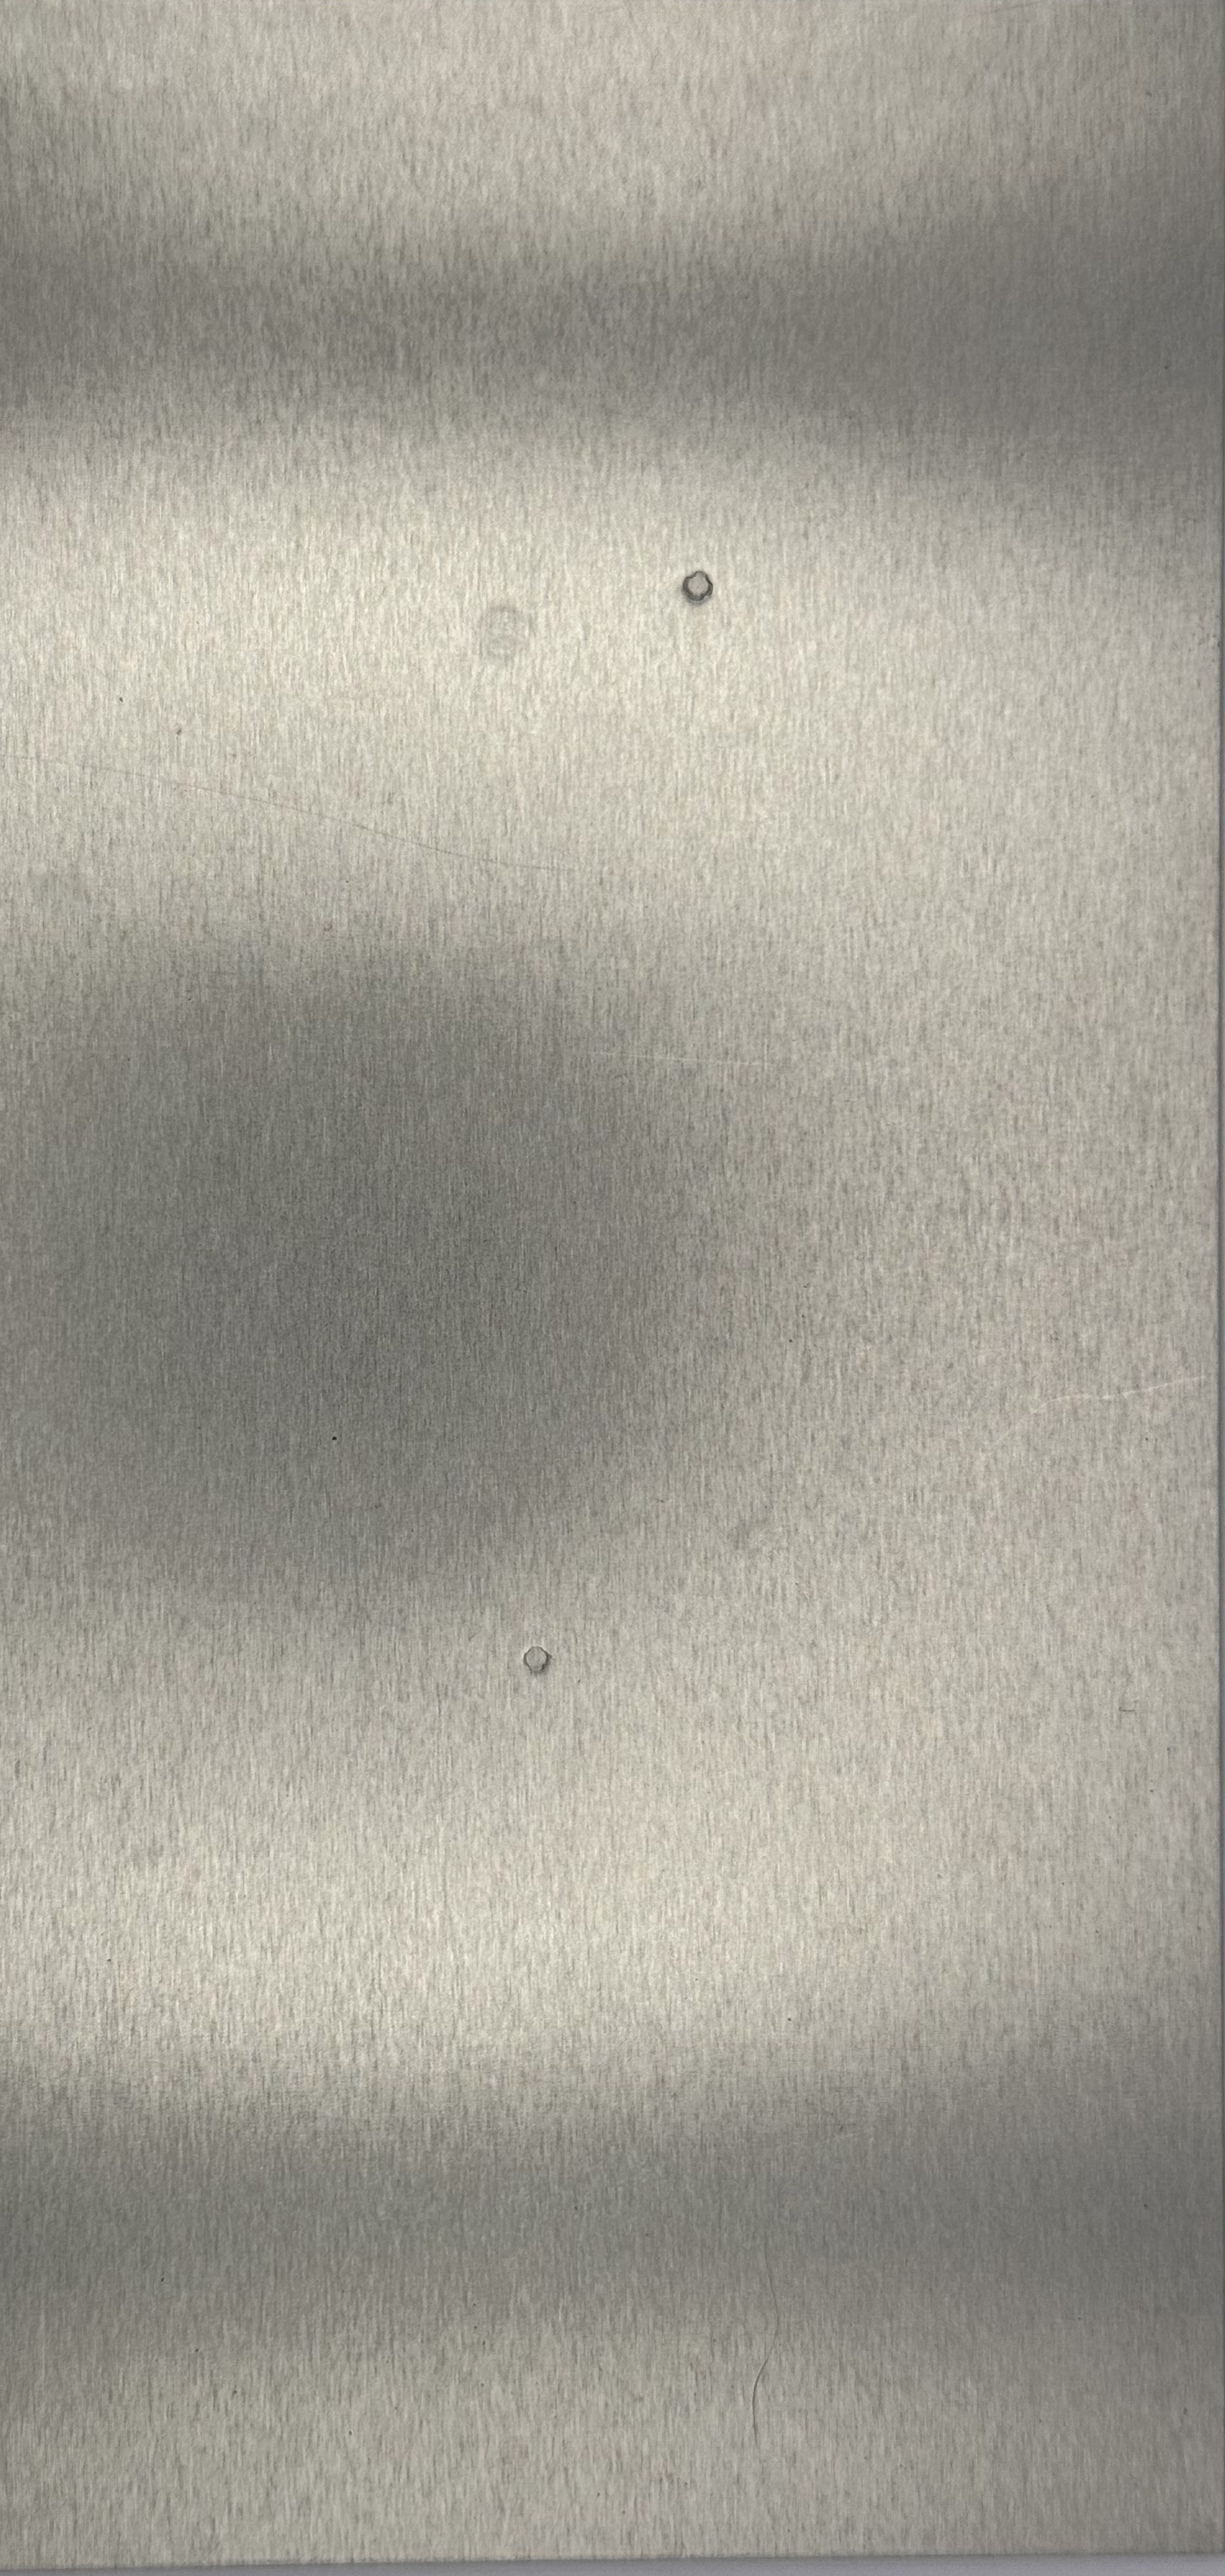Delle: (448, 588, 560, 683), (657, 552, 737, 626), (498, 1626, 575, 1692)
